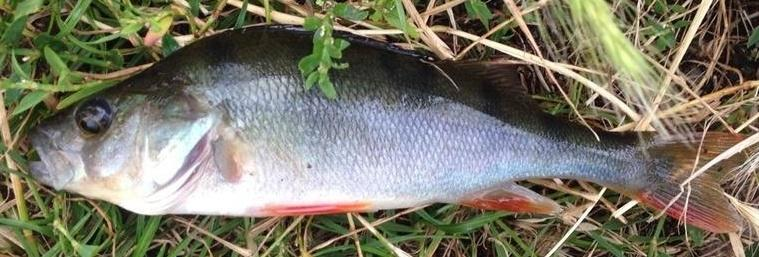Perch: (22, 21, 753, 238)
